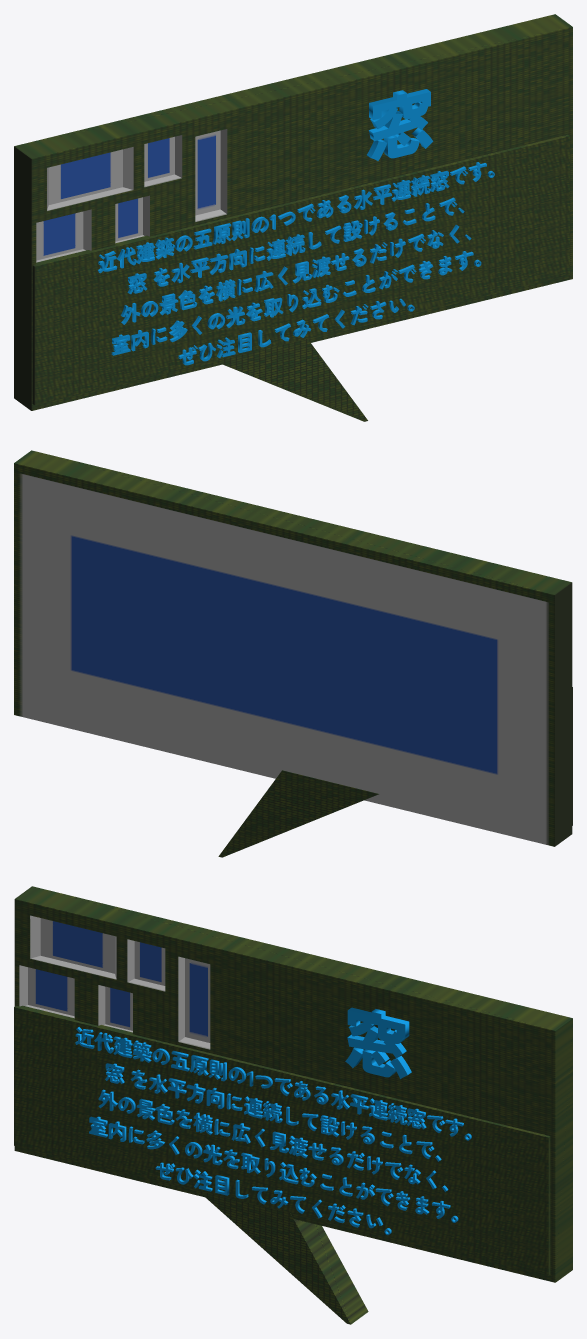
File: fukidasi-mado.glb
The picture shows the model from 3 angles, top to bottom: view 1: azimuth 30°, elevation 25°; view 2: azimuth 150°, elevation 25°; view 3: azimuth 330°, elevation 25°; orthographic projection.
Parts seen in each view (by area): view 1: 立方体, 立方体.002, テキスト, 立方体.001, テキスト.002; view 2: 立方体, 立方体.001; view 3: 立方体, 立方体.002, テキスト, 立方体.001, テキスト.002.
Boxes of the visible parts, box(x1,y1,x2,y2) form: 立方体: box(14, 14, 572, 410); 立方体.002: box(32, 134, 569, 405); テキスト: box(98, 162, 494, 365); 立方体.001: box(215, 339, 367, 421); テキスト.002: box(367, 89, 433, 160); 立方体: box(14, 450, 572, 846); 立方体.001: box(218, 770, 378, 857); 立方体: box(14, 886, 572, 1282); 立方体.002: box(14, 1005, 550, 1275); テキスト: box(75, 1027, 471, 1235); 立方体.001: box(198, 1190, 368, 1324); テキスト.002: box(345, 1007, 411, 1078).
Size of the model in its own units: 11.12 by 6.75 by 0.7737.
4 materials, 3 textured.
